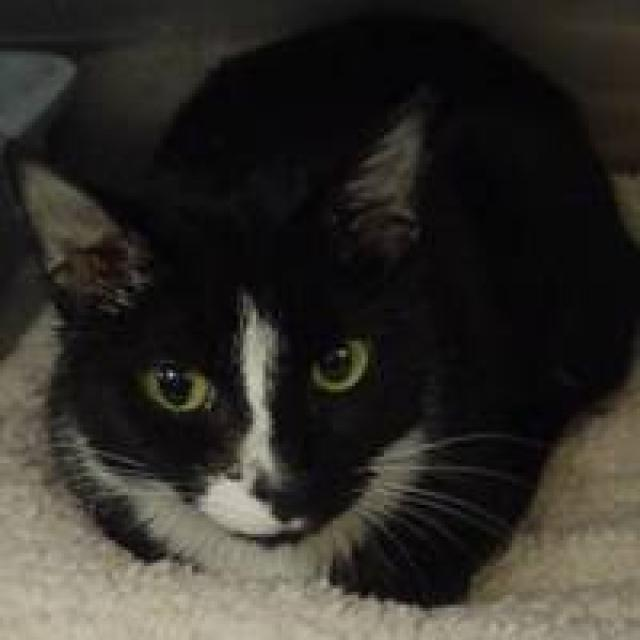cat: (9, 10, 636, 608)
